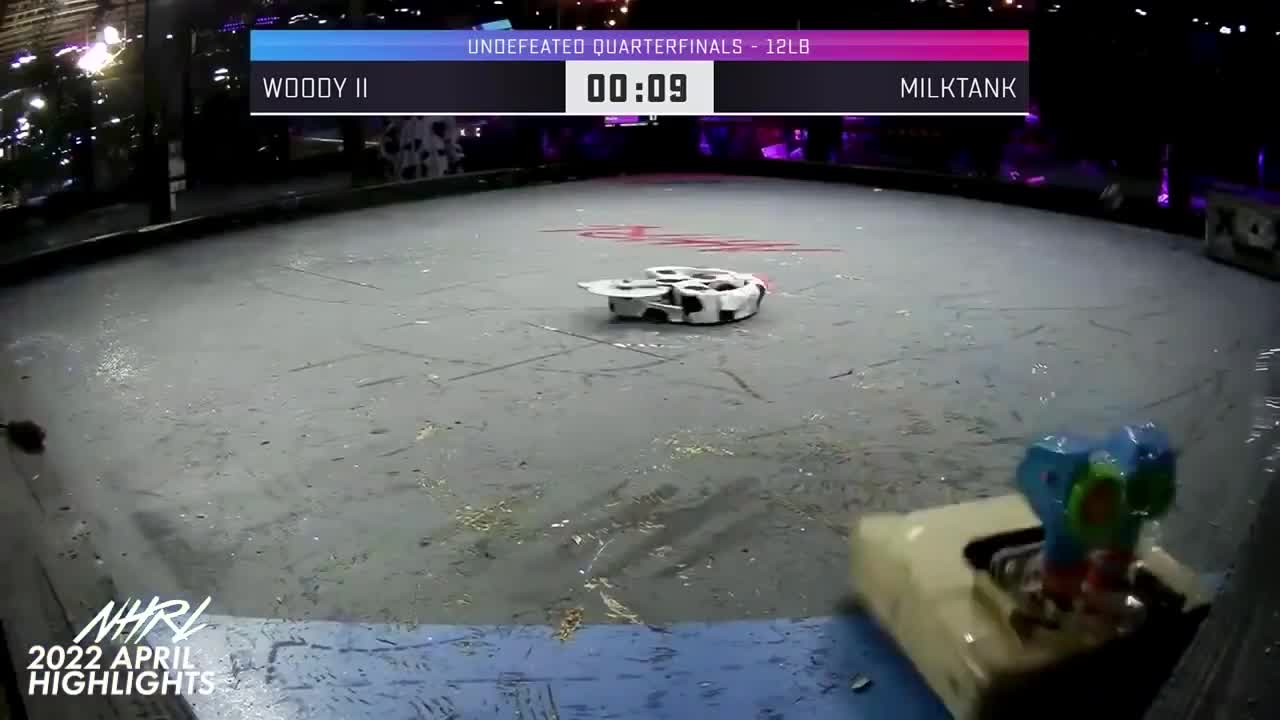combatbot: (840, 425, 1225, 719), (578, 272, 765, 325)
debris: (2, 419, 48, 455)
